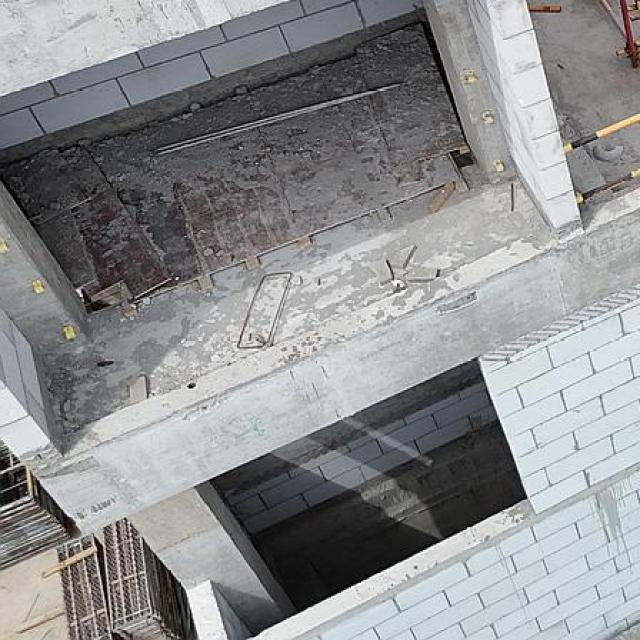edge_guardrail: (564, 113, 640, 204)
